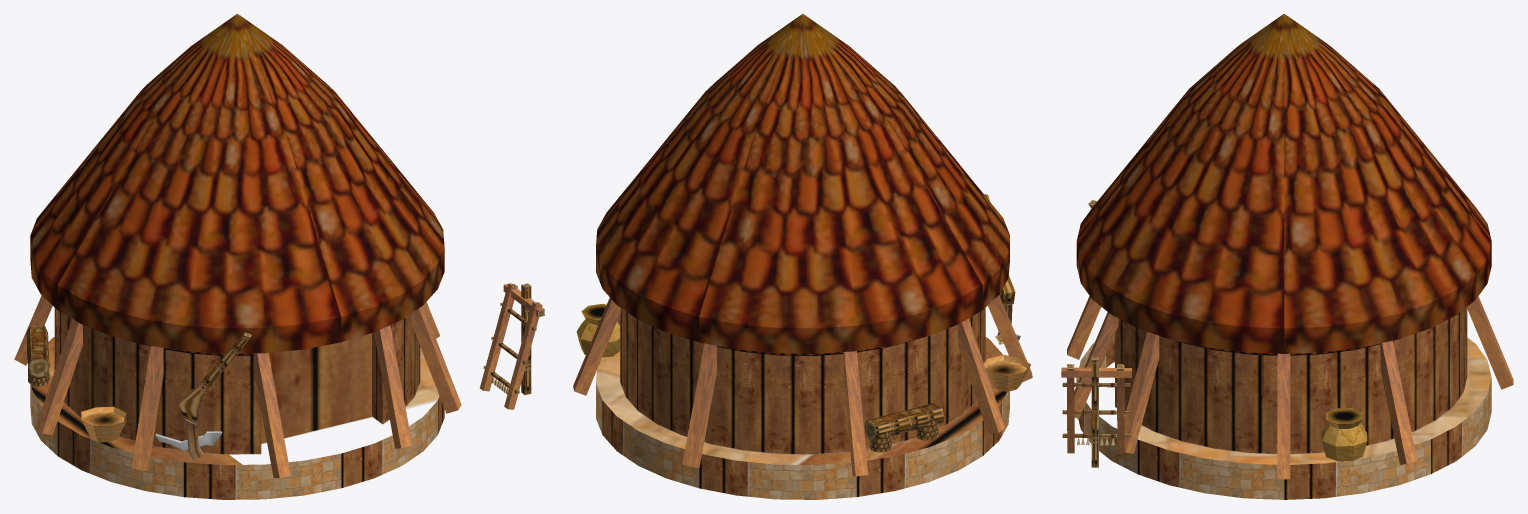
File: house_b.dae
3 views of the same model, side by side, from view 1: azimuth 30°, elevation 25°; view 2: azimuth 150°, elevation 25°; view 3: azimuth 270°, elevation 25° (orthographic).
Parts seen in each view (by area): view 1: house_b; view 2: house_b; view 3: house_b.
Boxes of the visible parts, bbox=[...] form: house_b: bbox=[14, 14, 544, 499]; house_b: bbox=[573, 14, 1032, 499]; house_b: bbox=[1061, 14, 1513, 499].
Size of the model in its own units: 13.98 by 13.75 by 13.35.
